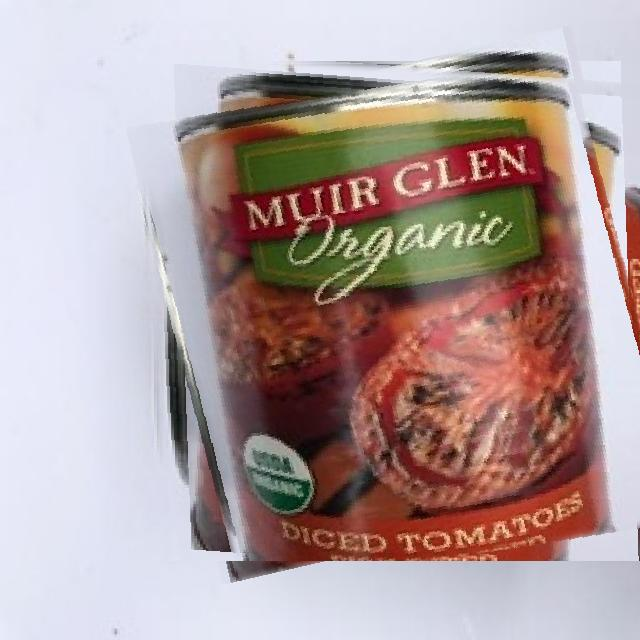recyclable: (140, 47, 640, 561)
